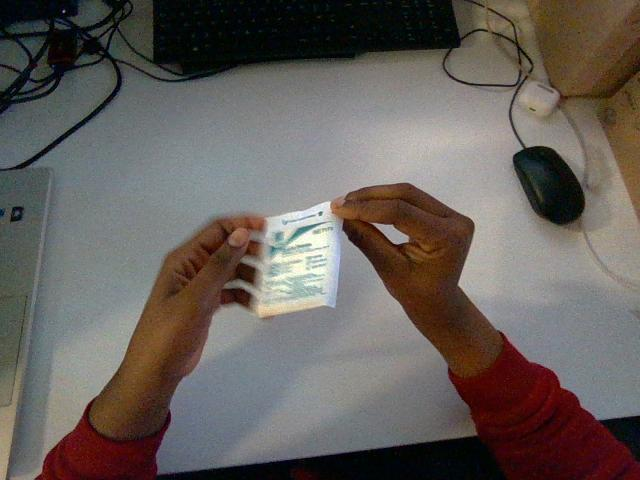gauze: (251, 202, 341, 317)
